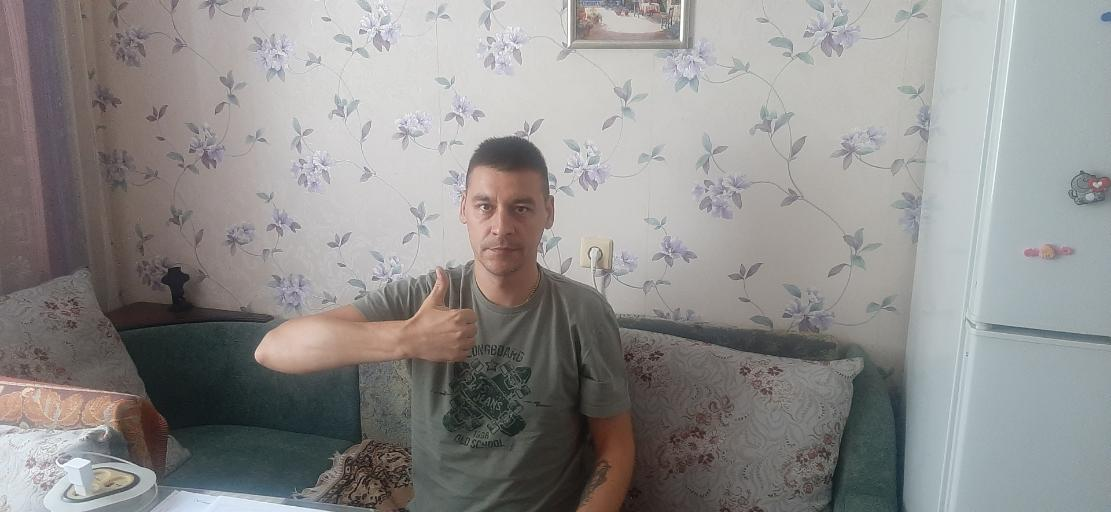like: (404, 262, 487, 372)
